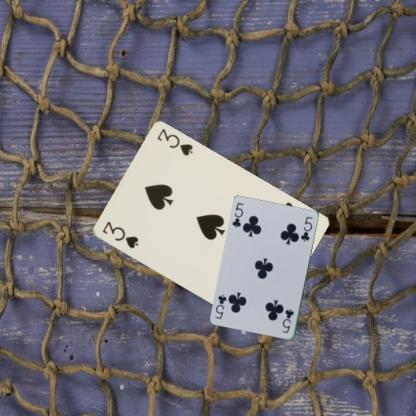3s: (99, 219, 140, 250)
5c: (279, 306, 295, 335), (229, 201, 245, 230)
